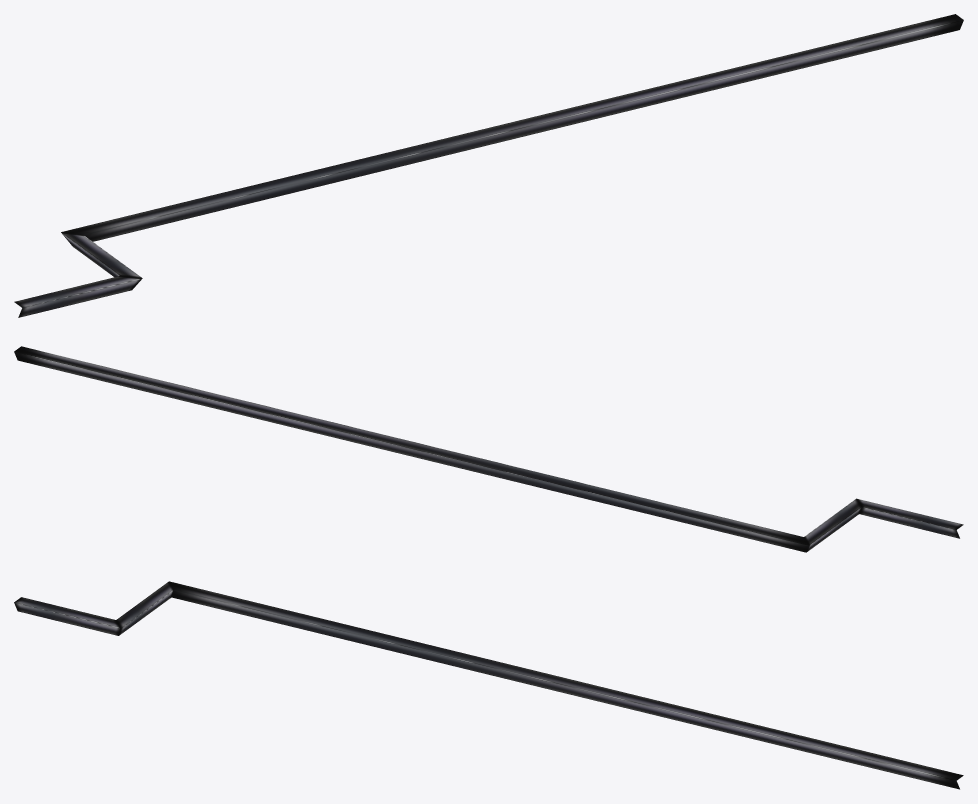
3 views of the same model, one above another, from view 1: azimuth 30°, elevation 25°; view 2: azimuth 150°, elevation 25°; view 3: azimuth 330°, elevation 25° (orthographic). The views are drawn at different scales.
Visible parts, largest first — view 1: Cylinder08; view 2: Cylinder08; view 3: Cylinder08.
Boxes of the visible parts, box(x1,y1,x2,y2) form: Cylinder08: box(14, 14, 963, 317); Cylinder08: box(14, 346, 963, 552); Cylinder08: box(14, 581, 963, 789).
Bounding box in the file's own units: 3538 × 43.88 × 416.
1 material, 1 textured.
